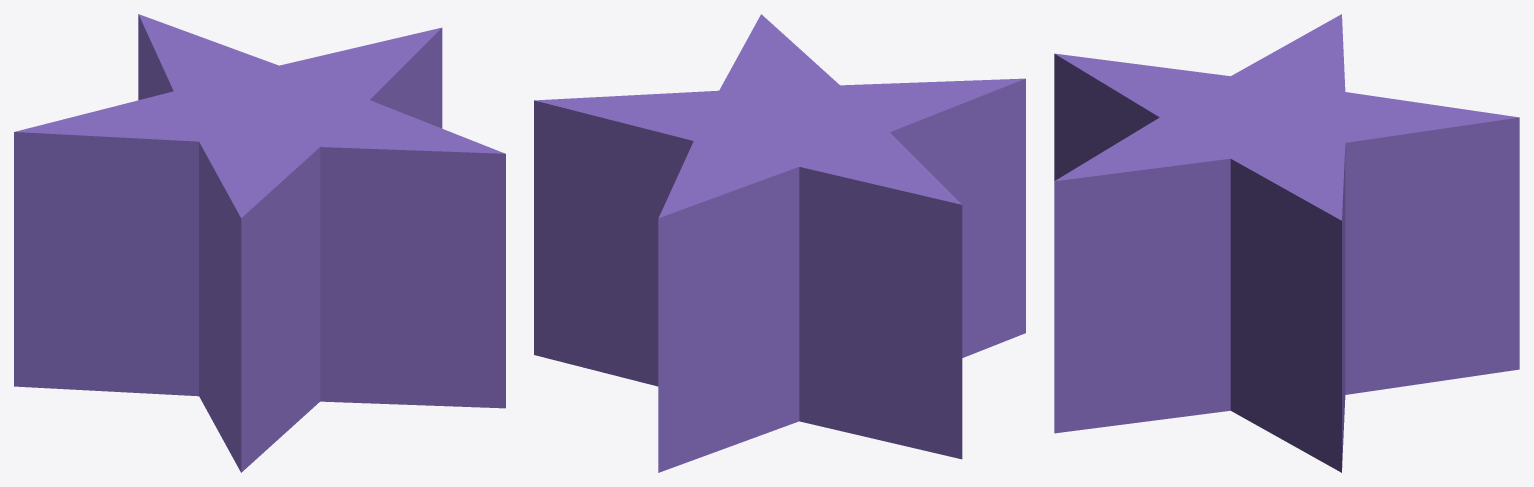
File: bintang.fbx
3 renders of one model, left to right at view 1: azimuth 30°, elevation 25°; view 2: azimuth 150°, elevation 25°; view 3: azimuth 270°, elevation 25°, orthographic.
Parts seen in each view (by area): view 1: Circle; view 2: Circle; view 3: Circle.
Boxes of the visible parts, left/top/right/bottom form: Circle: left=14, top=14, right=505, bottom=472; Circle: left=534, top=14, right=1025, bottom=472; Circle: left=1054, top=14, right=1519, bottom=472.
Bounding box in the file's own units: 480 × 273 × 457.
